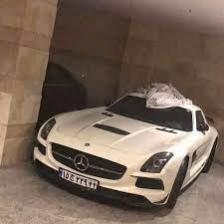plate: (57, 166, 98, 191)
